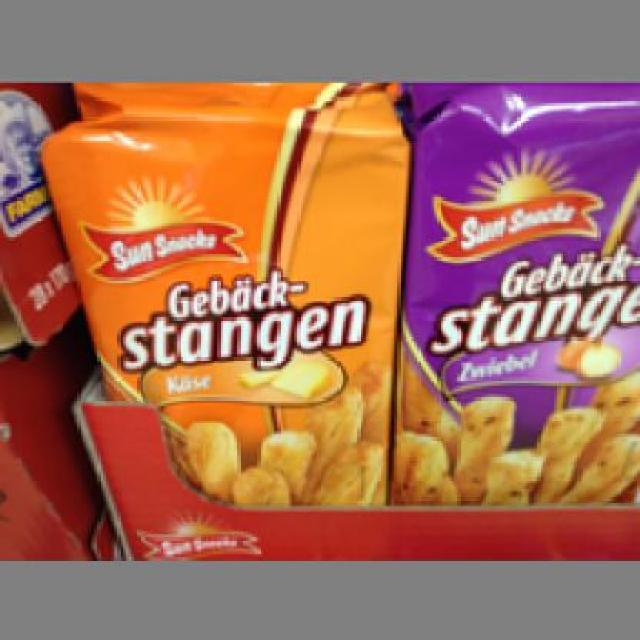Chips: (37, 106, 397, 503), (394, 90, 637, 507)
